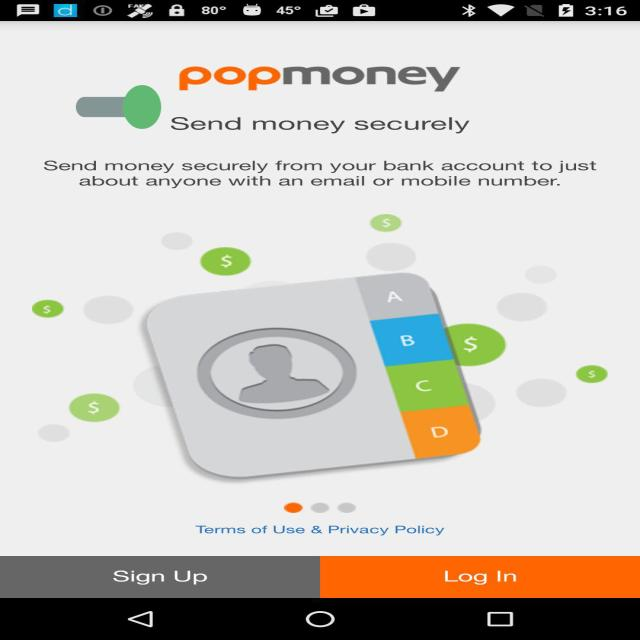social proof: (76, 58, 161, 156)
